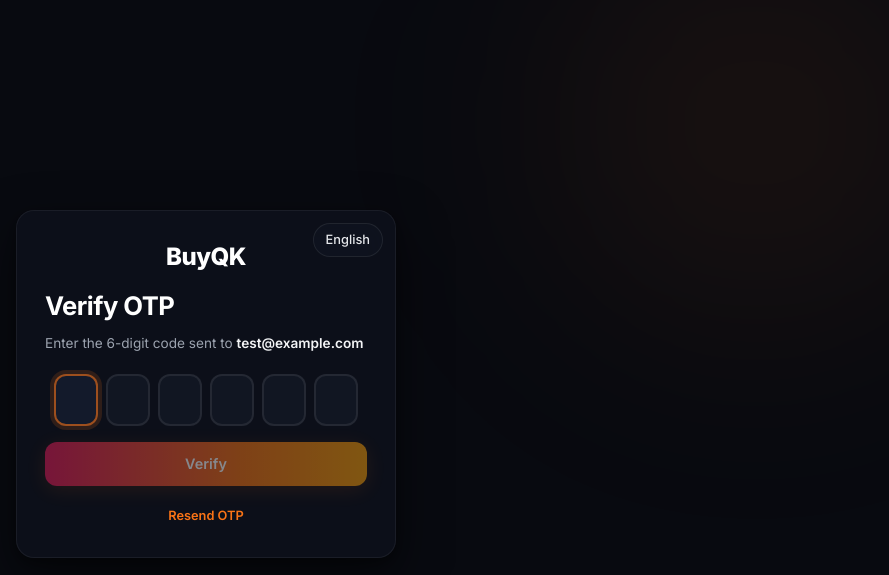
it: OTPPage › enables verify button when all 6 digits entered
The width and height of the screenshot is (889, 575).
Type "1" into the 1st field at (76, 400), box [54,374,98,426]
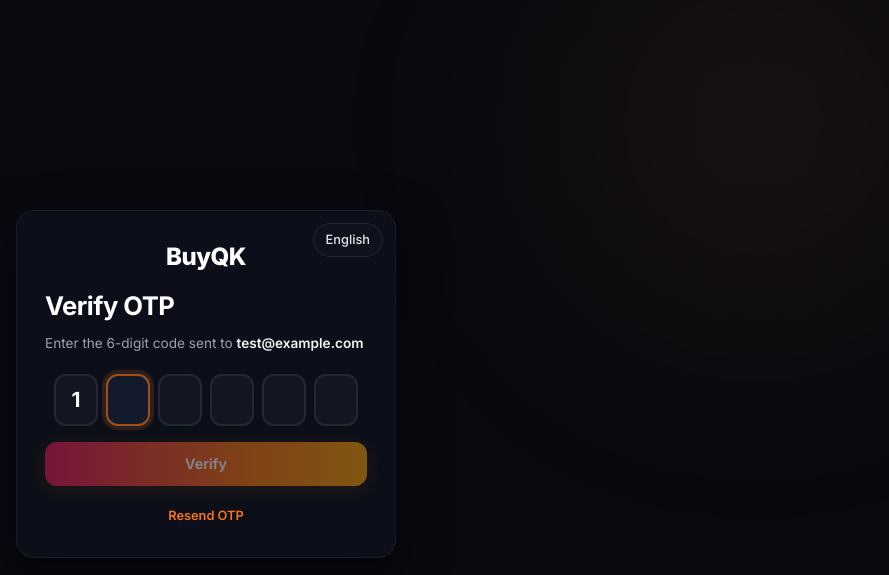
Type "2" into the 2nd field at (128, 400), box [106,374,150,426]
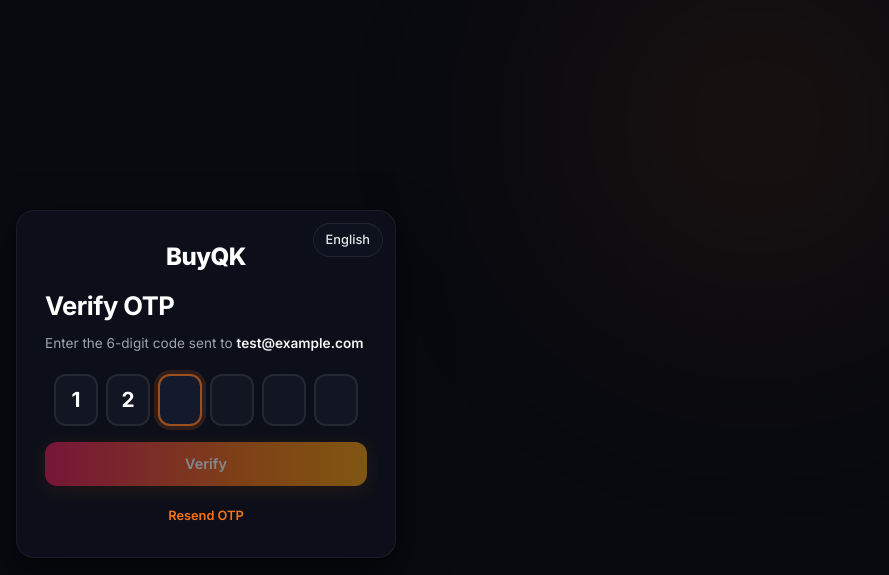
Type "3" into the 3rd field at (180, 400), box [158,374,202,426]
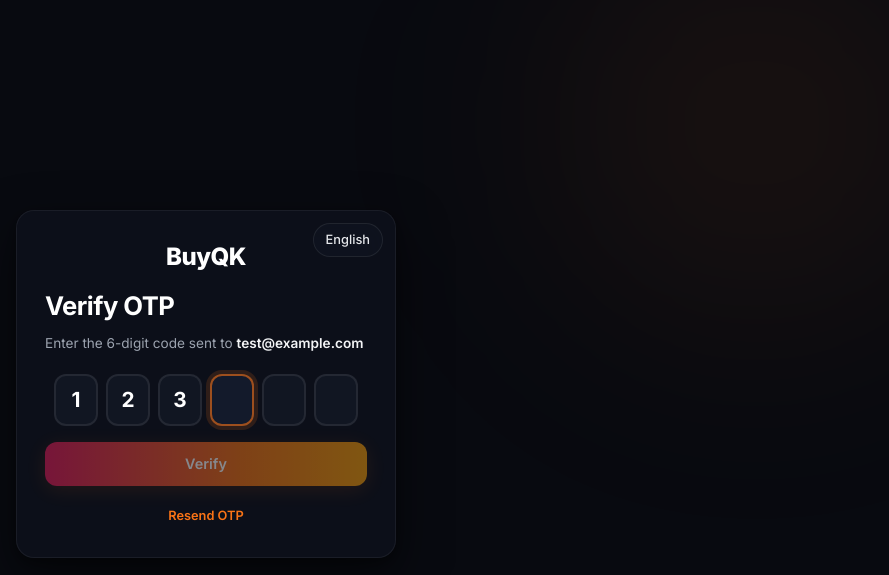
Type "4" into the 4th field at (232, 400), box [210,374,254,426]
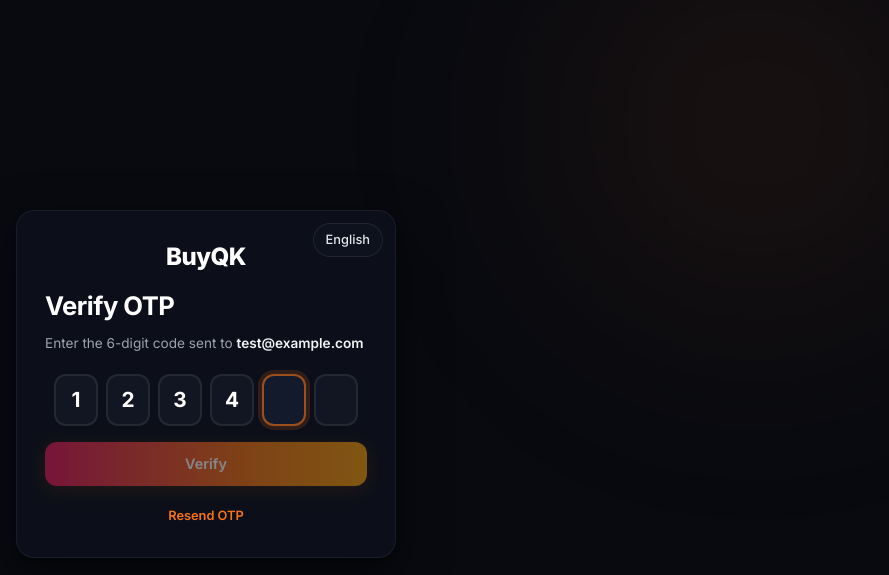
Type "5" into the 5th field at (284, 400), box [262,374,306,426]
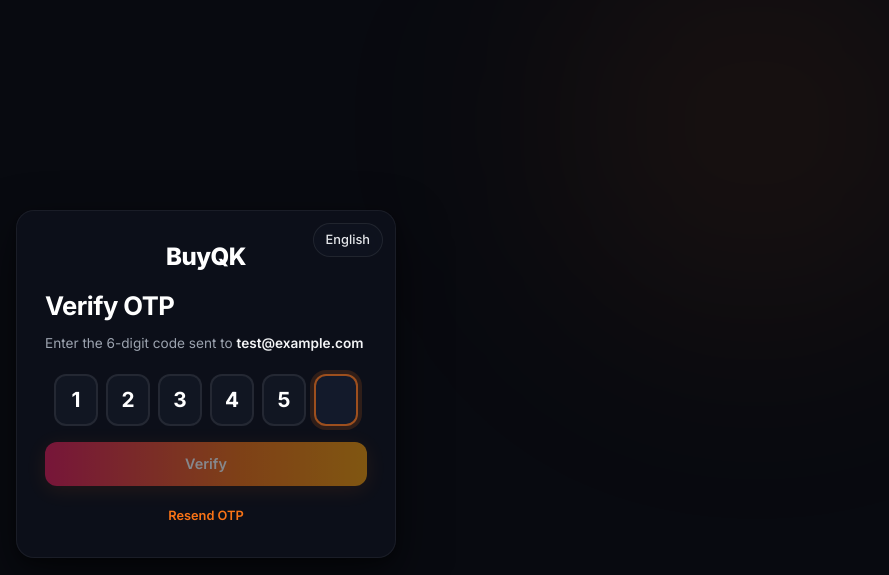
Type "6" into the 6th field at (336, 400), box [314,374,358,426]
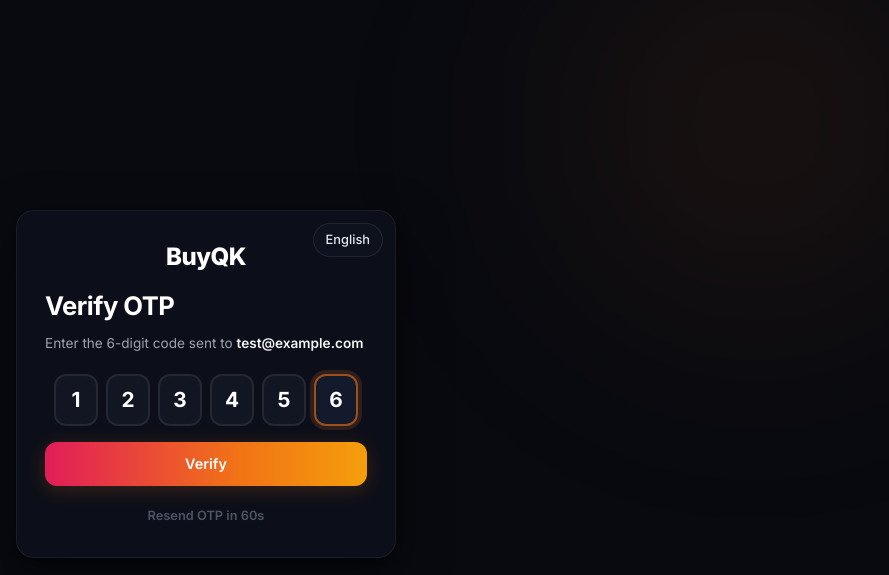
Expected: the button "Verify" is enabled, [45,442,367,486]
